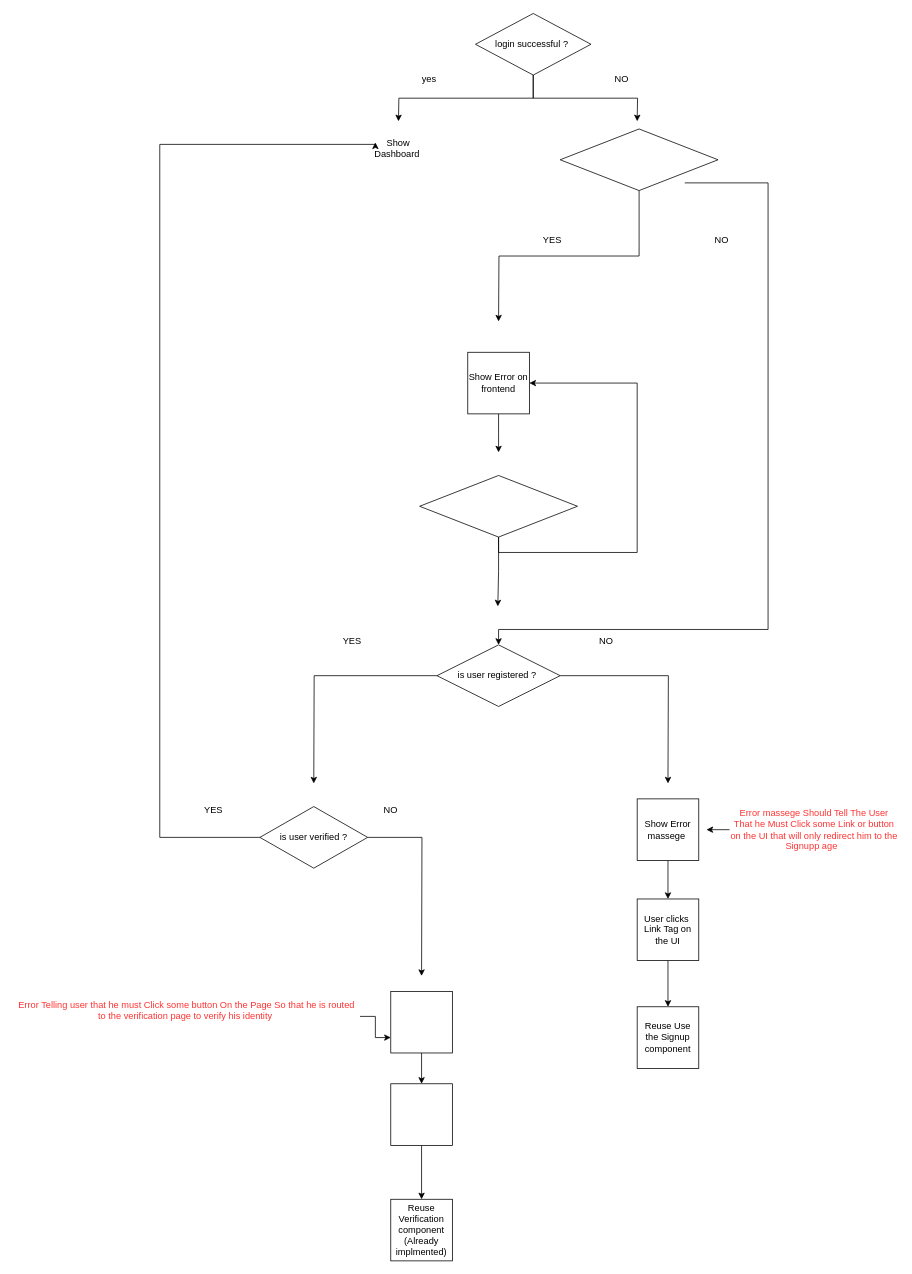
This 912x1274 diagram has some shape labels left out. The centre of each missing label's shape, as x and y in pixels:
"Client Side Validation ? violated" goes at (638,159).
"Client Side Validation pass?" goes at (498,506).
"Show Error2 on frontEnd" goes at (421,1022).
"User clicksLink element on the page" goes at (421,1114).
